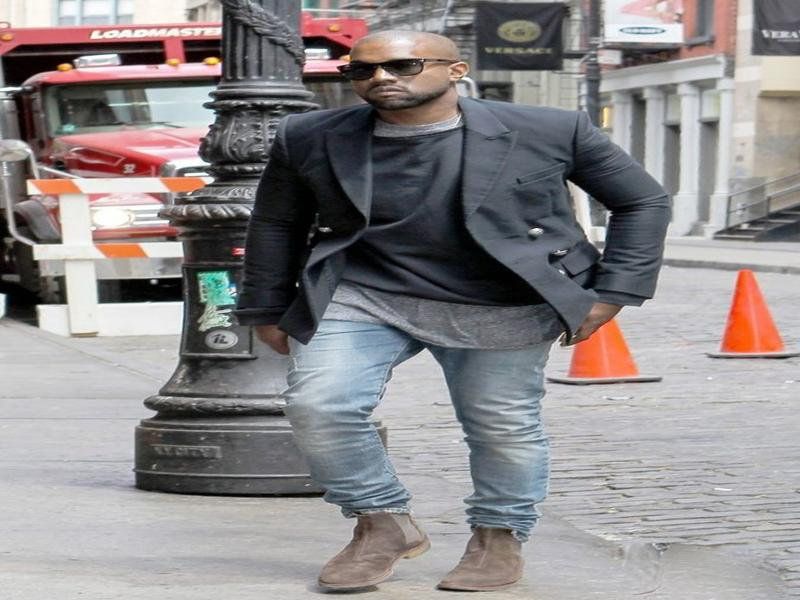shoes_men_chelsea_chelseaboots_suede_none_none_grey_none: (320, 508, 428, 592), (439, 525, 534, 593)
